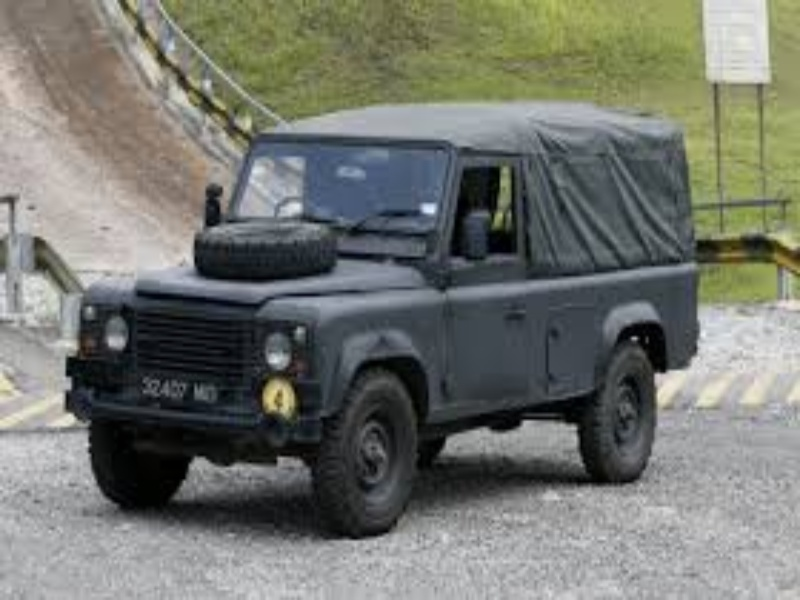jeep: (61, 101, 702, 548)
